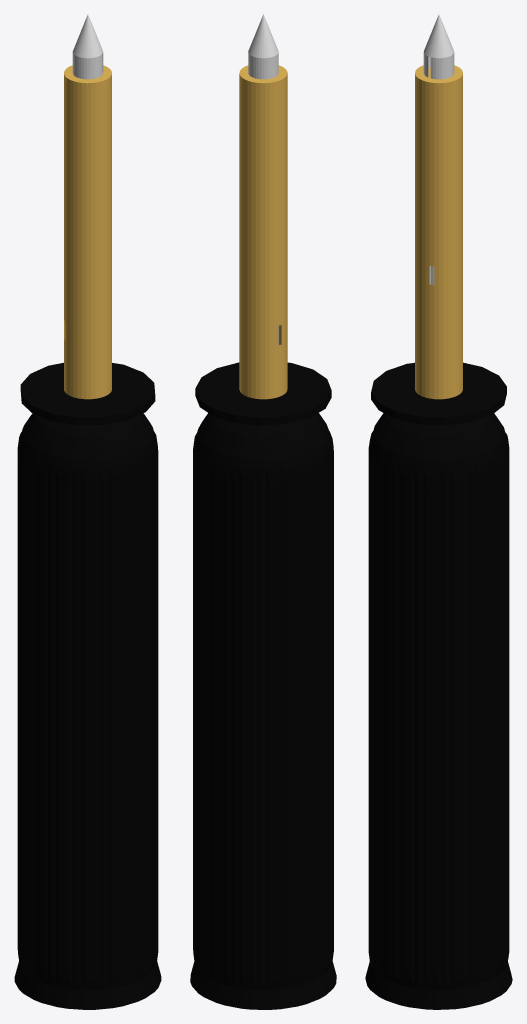
Rendered from payl.fbx.
3 renders of one model, left to right at view 1: azimuth 30°, elevation 25°; view 2: azimuth 150°, elevation 25°; view 3: azimuth 270°, elevation 25°, orthographic.
Parts seen in each view (by area): view 1: Cylinder, Cylinder.002, Cylinder.001; view 2: Cylinder, Cylinder.002, Cylinder.001; view 3: Cylinder, Cylinder.002, Cylinder.001.
Part boxes in pixels (x1=…): Cylinder: x1=14, y1=362, x2=161, y2=1009; Cylinder.002: x1=64, y1=65, x2=111, y2=399; Cylinder.001: x1=72, y1=14, x2=103, y2=79; Cylinder: x1=190, y1=362, x2=336, y2=1009; Cylinder.002: x1=239, y1=65, x2=287, y2=399; Cylinder.001: x1=248, y1=14, x2=278, y2=344; Cylinder: x1=365, y1=362, x2=512, y2=1009; Cylinder.002: x1=415, y1=65, x2=462, y2=399; Cylinder.001: x1=423, y1=14, x2=454, y2=284.
Bounding box in the file's own units: 116 × 837 × 116.
